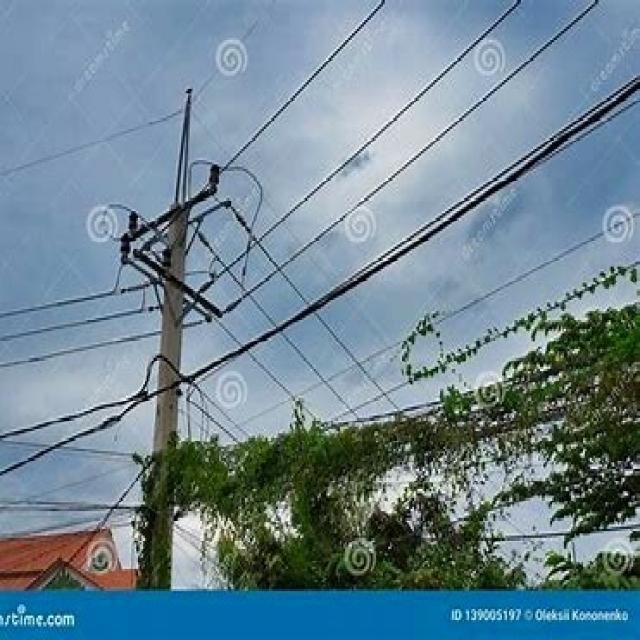critical vegetation: (156, 386, 634, 529)
